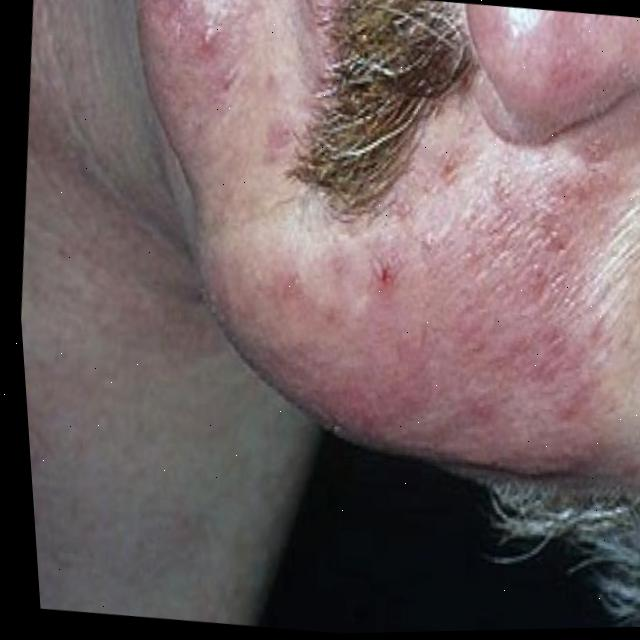Rosacea: (253, 109, 640, 465)
